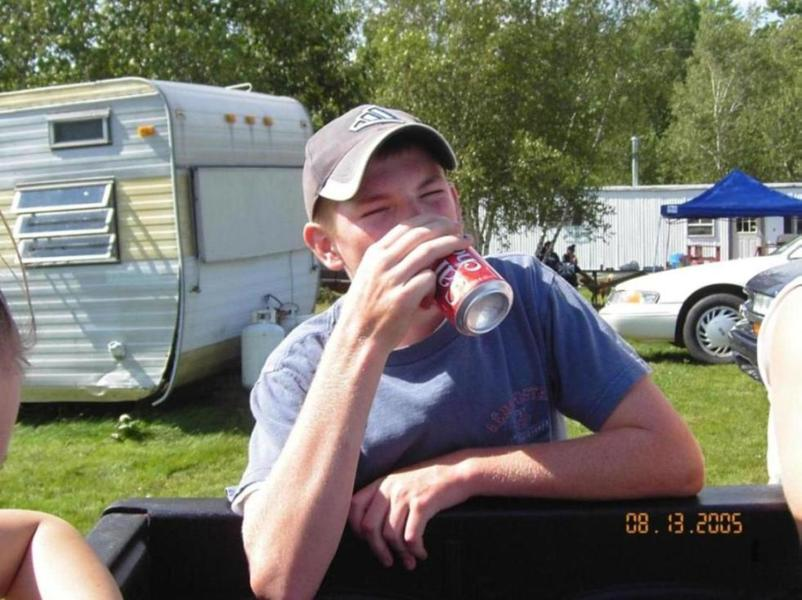person: (228, 103, 706, 596)
